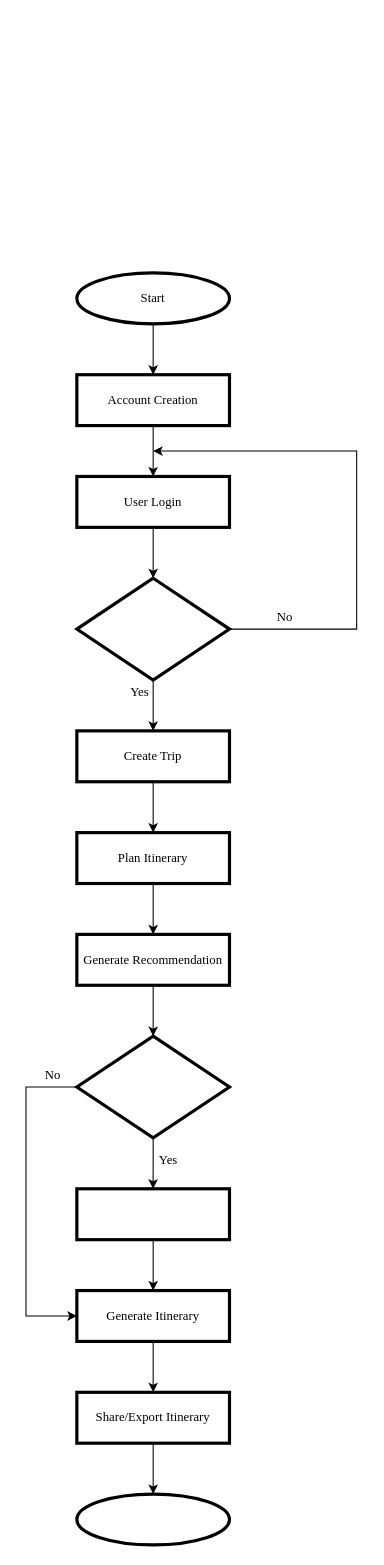
The diagram is 384 pixels wide and 1565 high, and some of its shapes have lost their labels. The centre of each missing label's shape, as x and y in pixels:
"Add to itinerary" goes at (153,1214).
"End" goes at (153,1519).
"Login Valid?" goes at (153,628).
"User Select Recommendation" goes at (153,1086).
